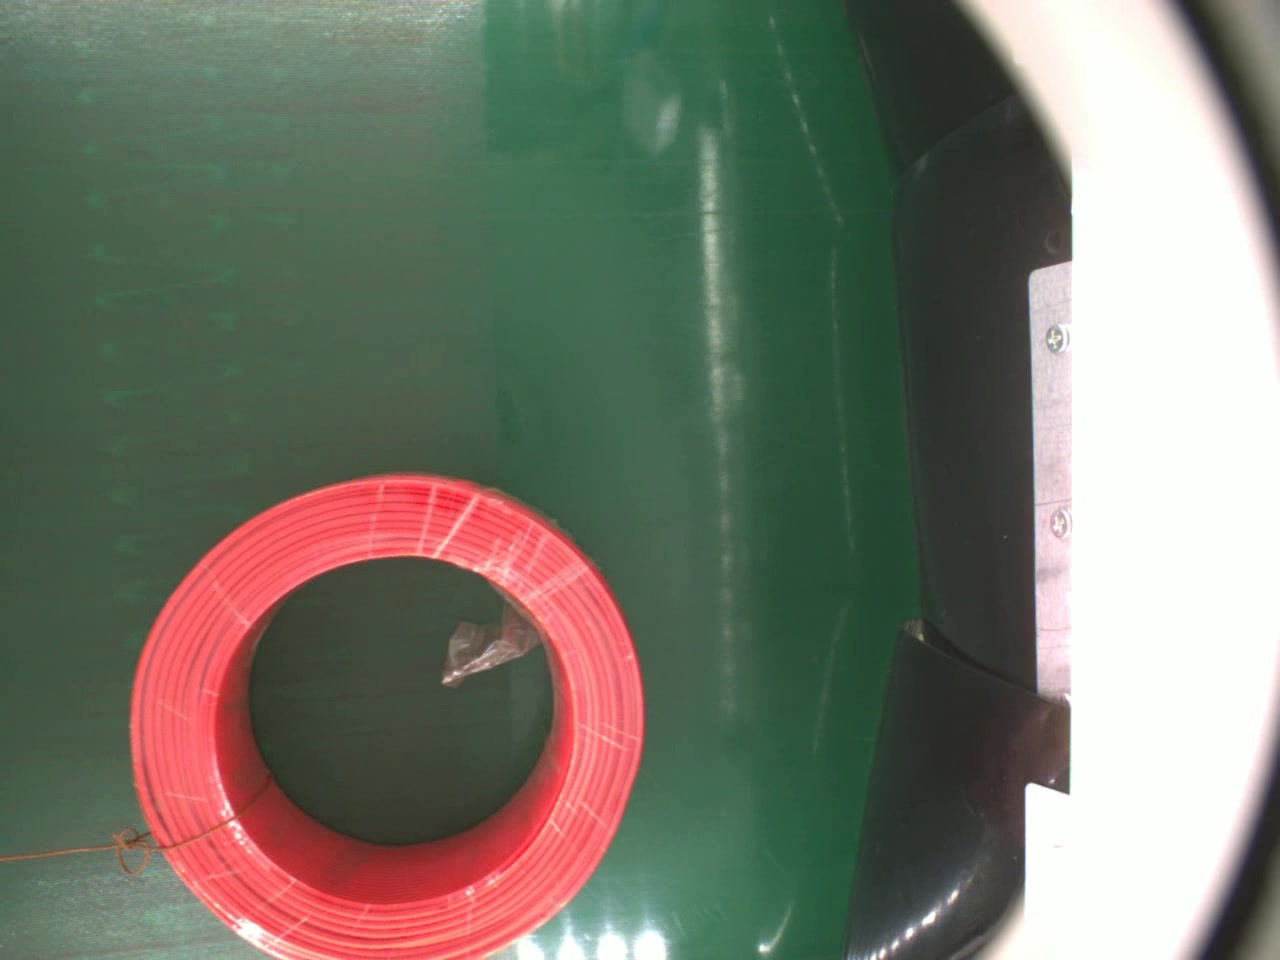red: (118, 476, 648, 957)
